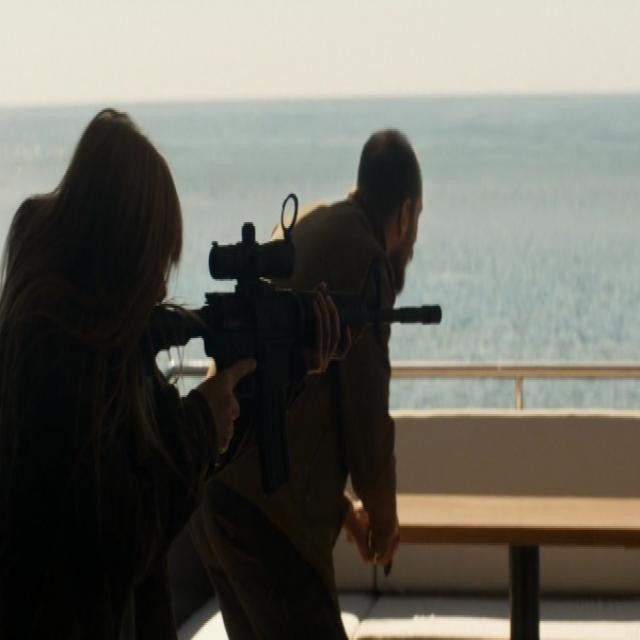rifle: (149, 194, 448, 374)
